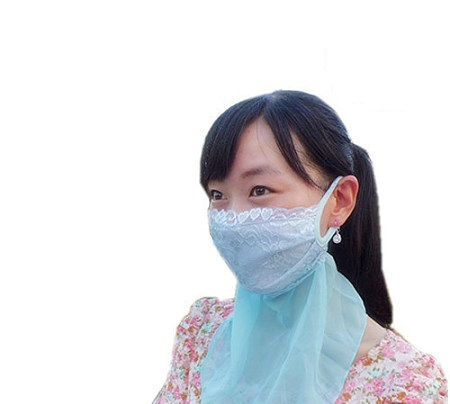face_mask: (205, 126, 326, 288)
